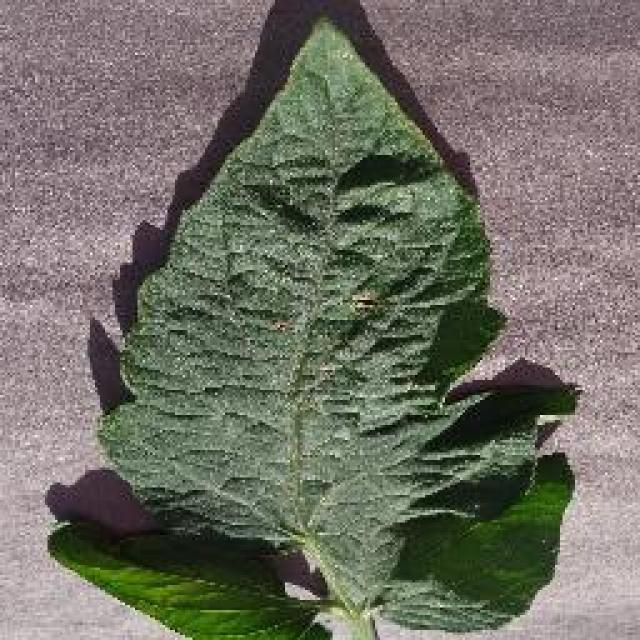Tomato Septoria spot leaf: (48, 12, 572, 640)
